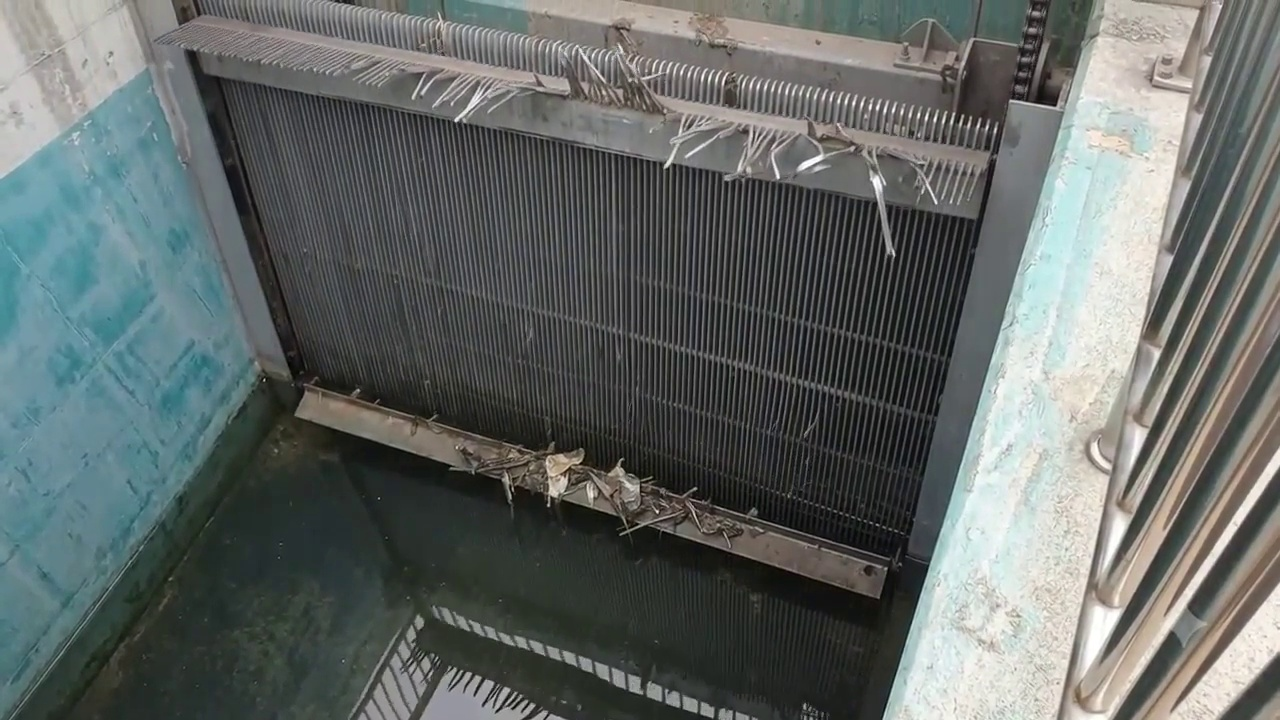damage: (345, 34, 944, 228)
